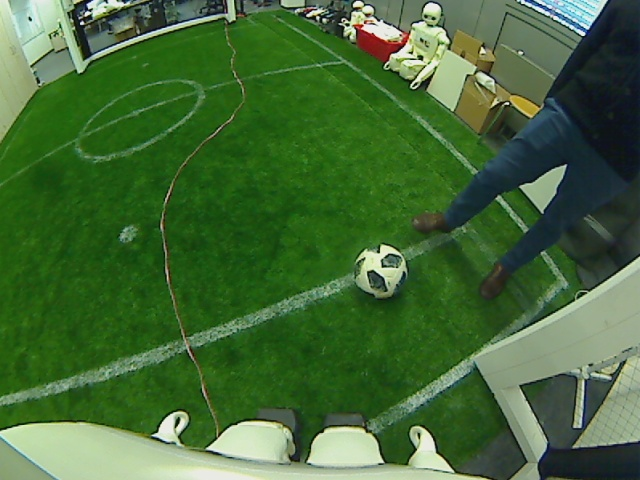ball: (349, 243, 408, 298)
